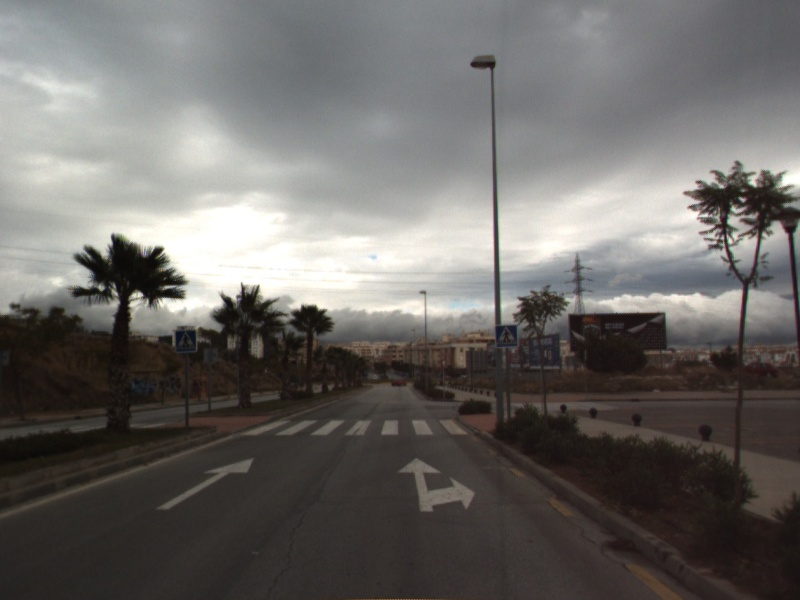STRAIGHT: (155, 456, 256, 512)
STRAIGHT_RIGHT: (395, 455, 477, 514)
